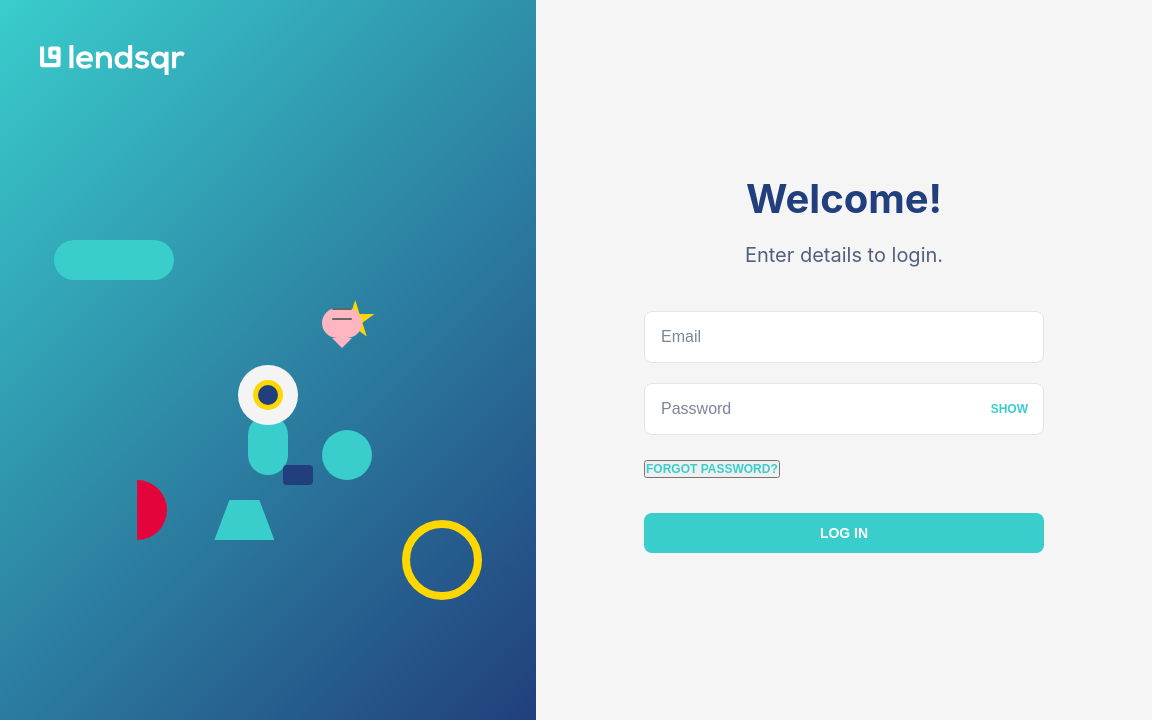
it: Login Component › shows password when SHOW button is clicked
This screenshot has width=1152, height=720.
Click the button "SHOW" at (1009, 409), box [991,402,1028,416]
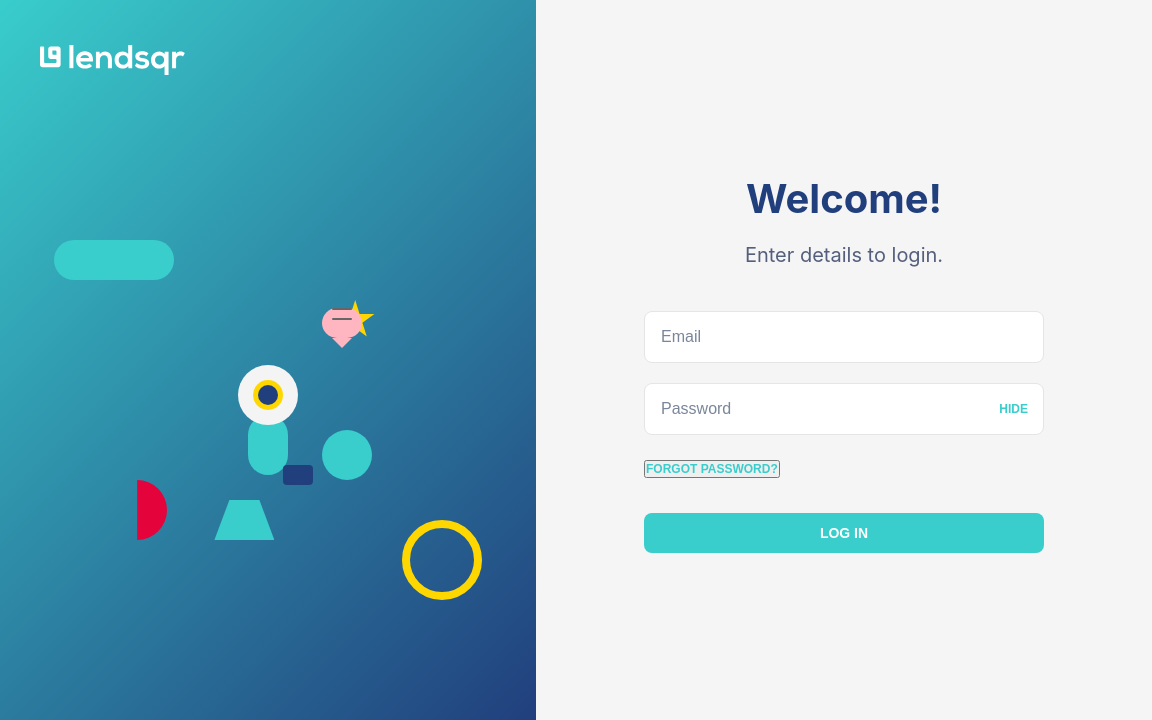
Check: the button "HIDE" is shown, box [999,402,1028,416]
